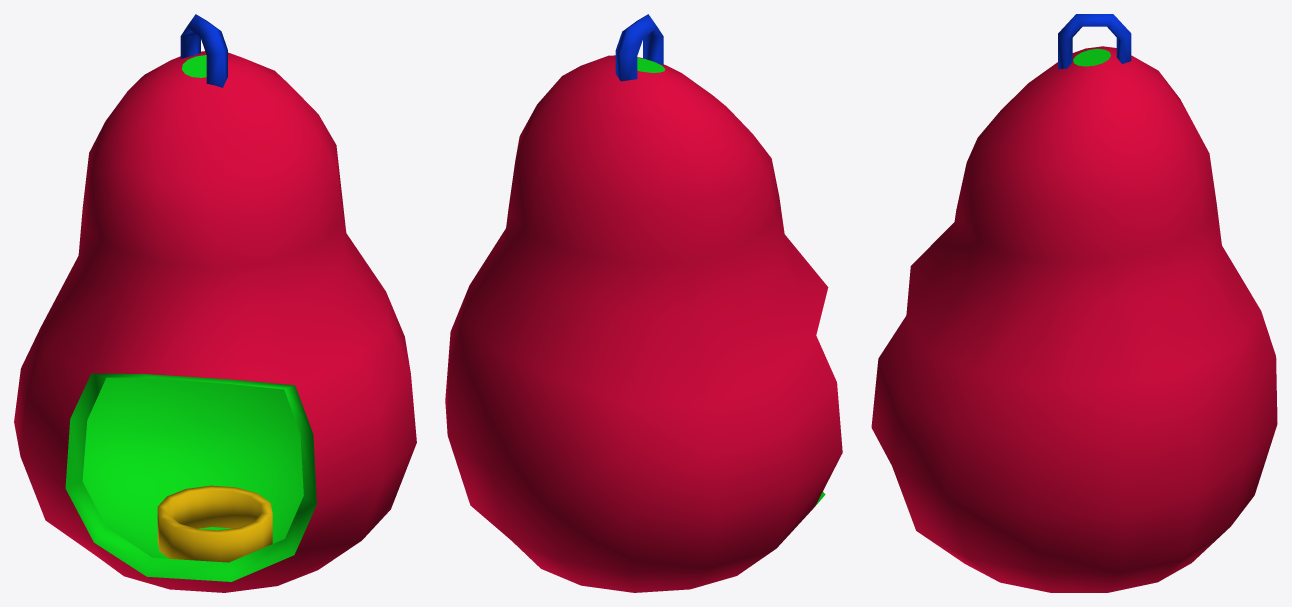
File: Kabak Lambası.fbx
3 renders of one model, left to right at view 1: azimuth 30°, elevation 25°; view 2: azimuth 150°, elevation 25°; view 3: azimuth 270°, elevation 25°, orthographic.
Parts seen in each view (by area): view 1: Cylinder.004; view 2: Cylinder.004; view 3: Cylinder.004.
Part boxes in pixels (left/top/right/bottom): Cylinder.004: left=14, top=14, right=416, bottom=592; Cylinder.004: left=445, top=14, right=842, bottom=592; Cylinder.004: left=871, top=14, right=1277, bottom=592.
Size of the model in its own units: 514 by 770 by 514.
